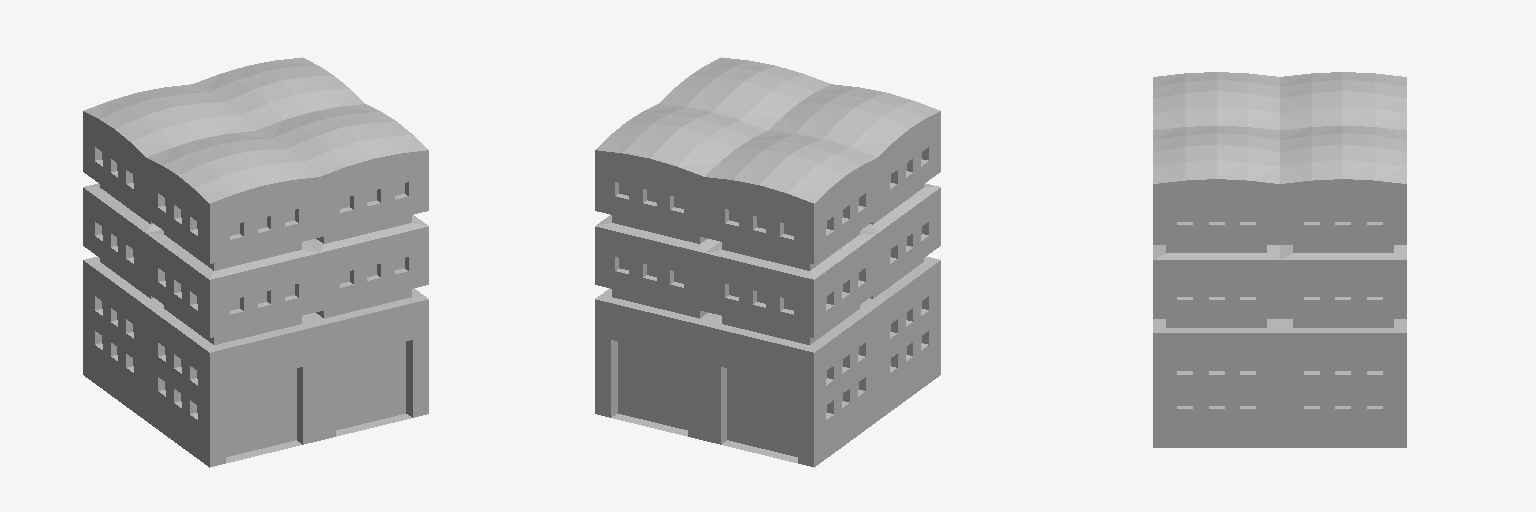
Rendered from shipyard.obj.
3 renders of one model, left to right at view 1: azimuth 30°, elevation 25°; view 2: azimuth 150°, elevation 25°; view 3: azimuth 270°, elevation 25°, orthographic.
Parts seen in each view (by area): view 1: Cube.001_Cube.019; view 2: Cube.001_Cube.019; view 3: Cube.001_Cube.019.
Part boxes in pixels (x1,y1,x2,y2): Cube.001_Cube.019: (83,57,428,467); Cube.001_Cube.019: (595,57,940,467); Cube.001_Cube.019: (1153,72,1406,447).
Bounding box in the file's own units: 2 × 2.41 × 2.